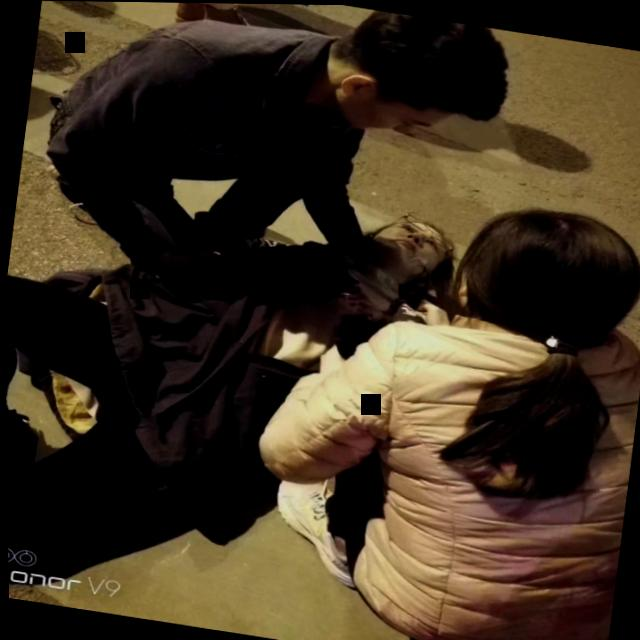Fall-Detected: (2, 149, 481, 640)
